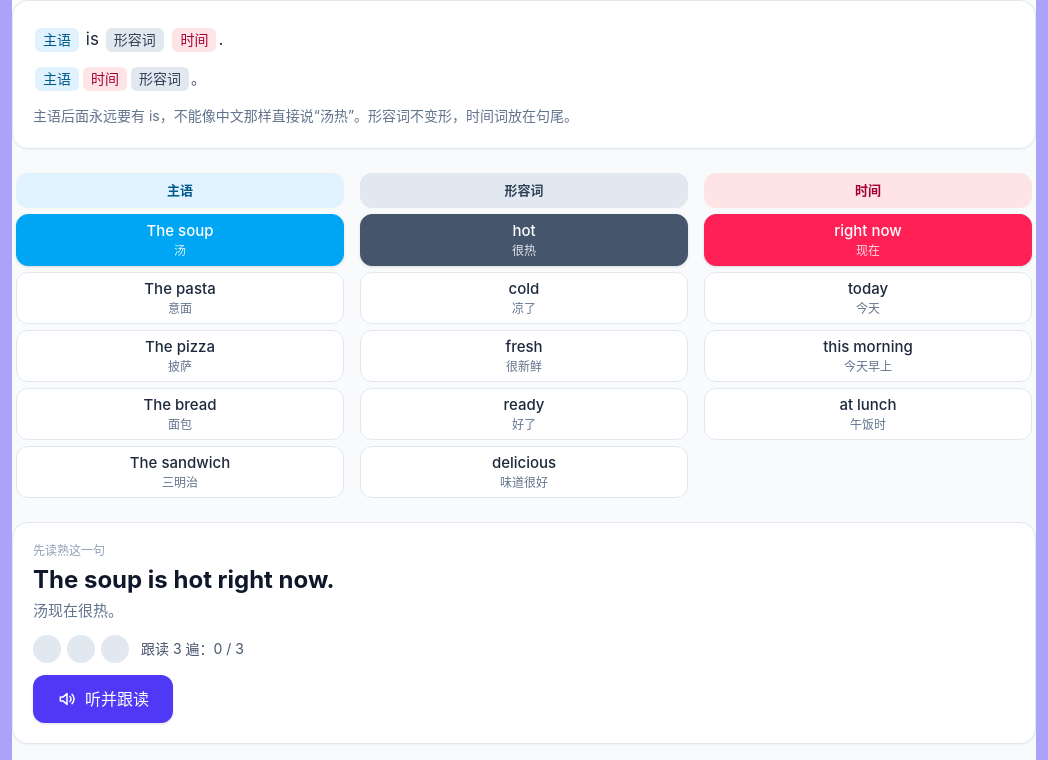
AnchorDrill voice mode › without recognition support there is no switch and taps count
Click the button "听并跟读".
click(103, 699)  # box [33,675,173,723]
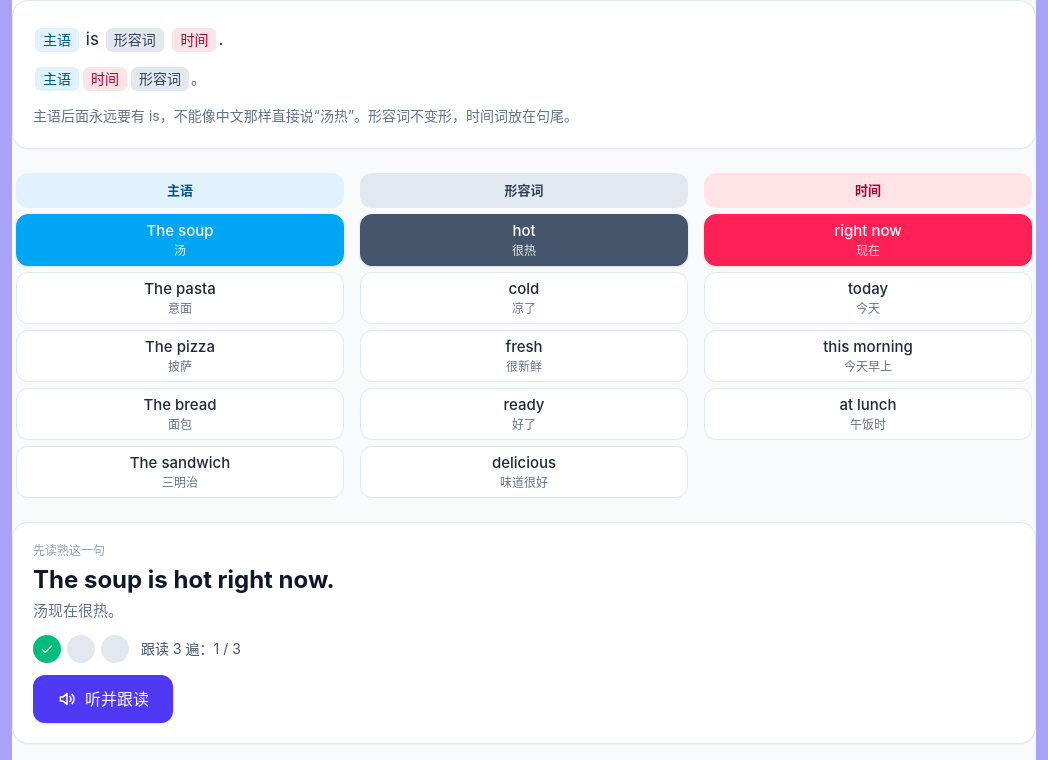
Check: the text "跟读 3 遍：1 / 3" is shown, box [141,639,241,659]
